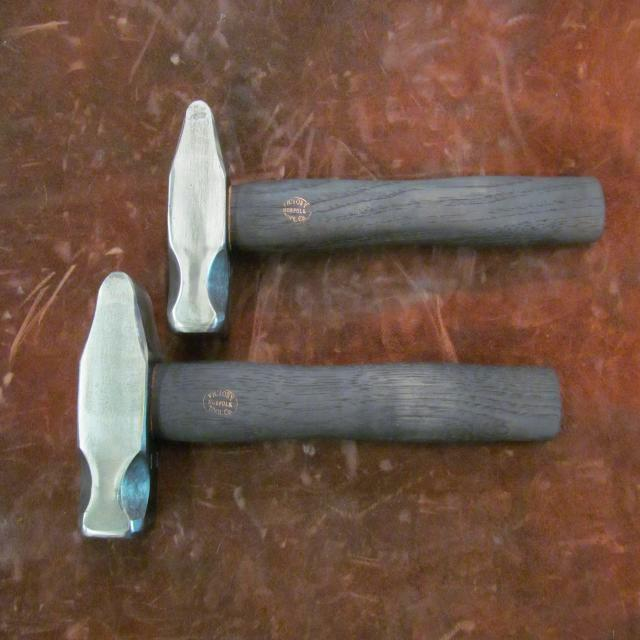hammer: (70, 266, 567, 546), (156, 91, 612, 343)
